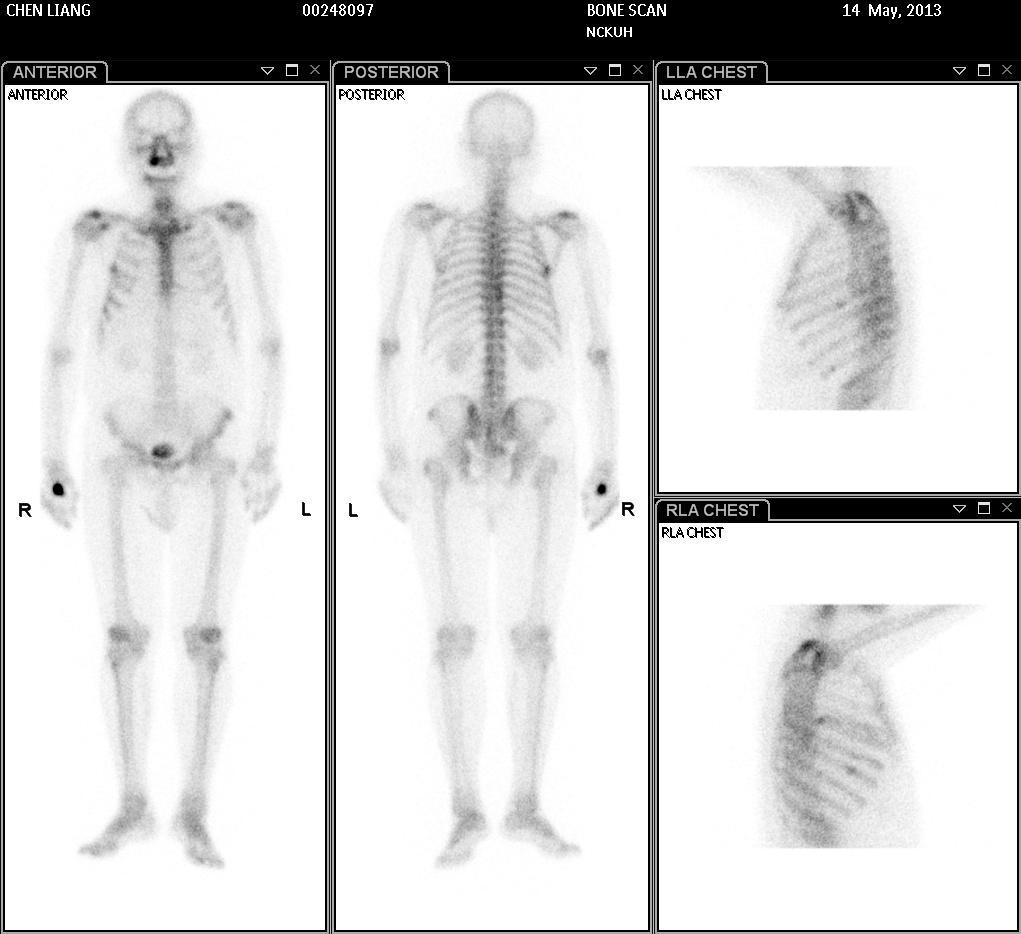person: (5, 86, 650, 930)
